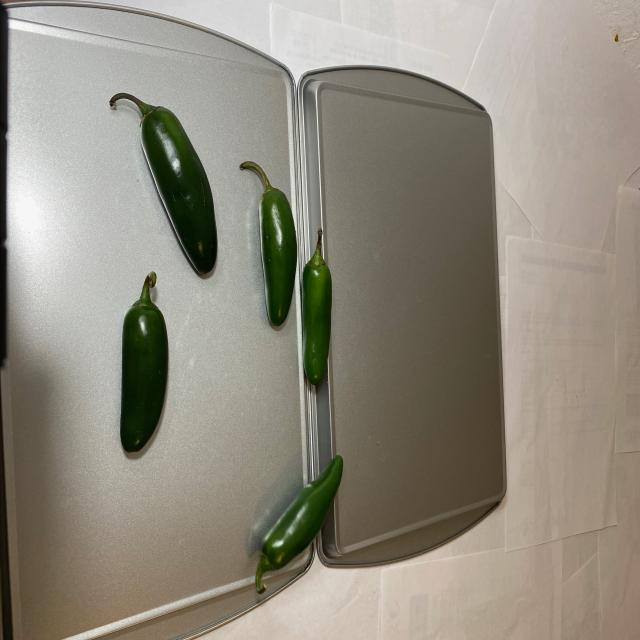chilli: (103, 88, 339, 584)
